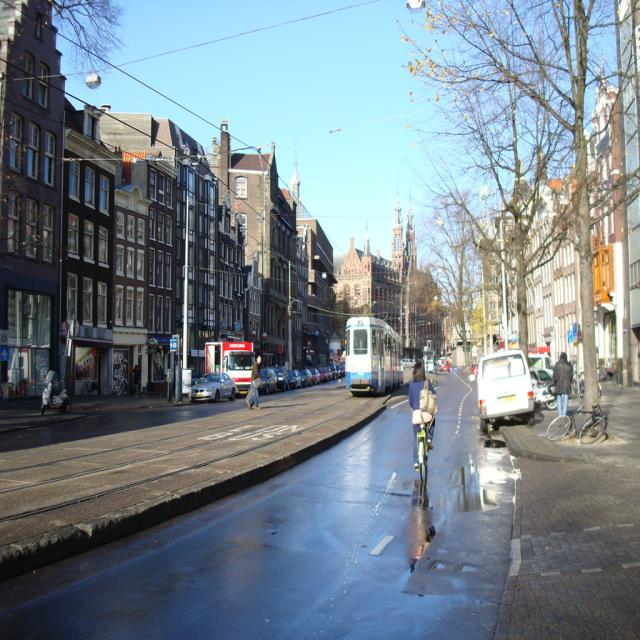car: (190, 370, 239, 407)
